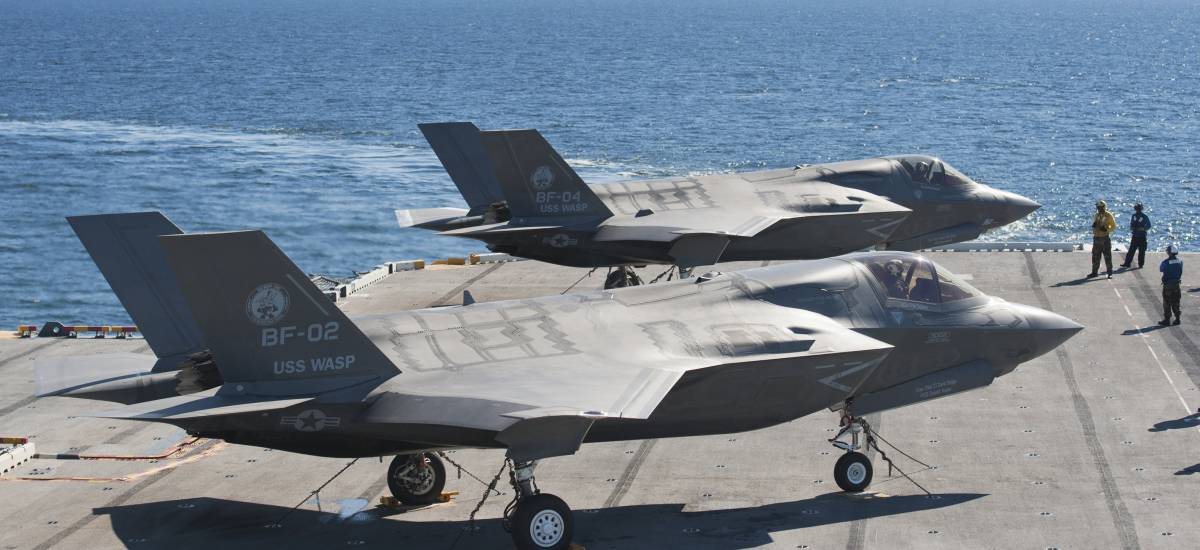F35: (31, 207, 1092, 547), (387, 113, 1053, 291)
